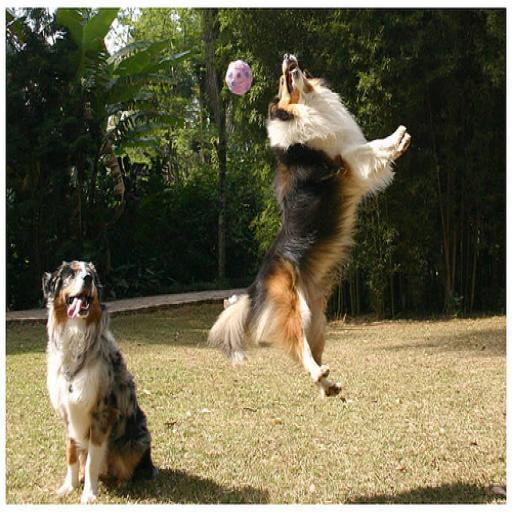dog_face: (39, 256, 101, 324)
